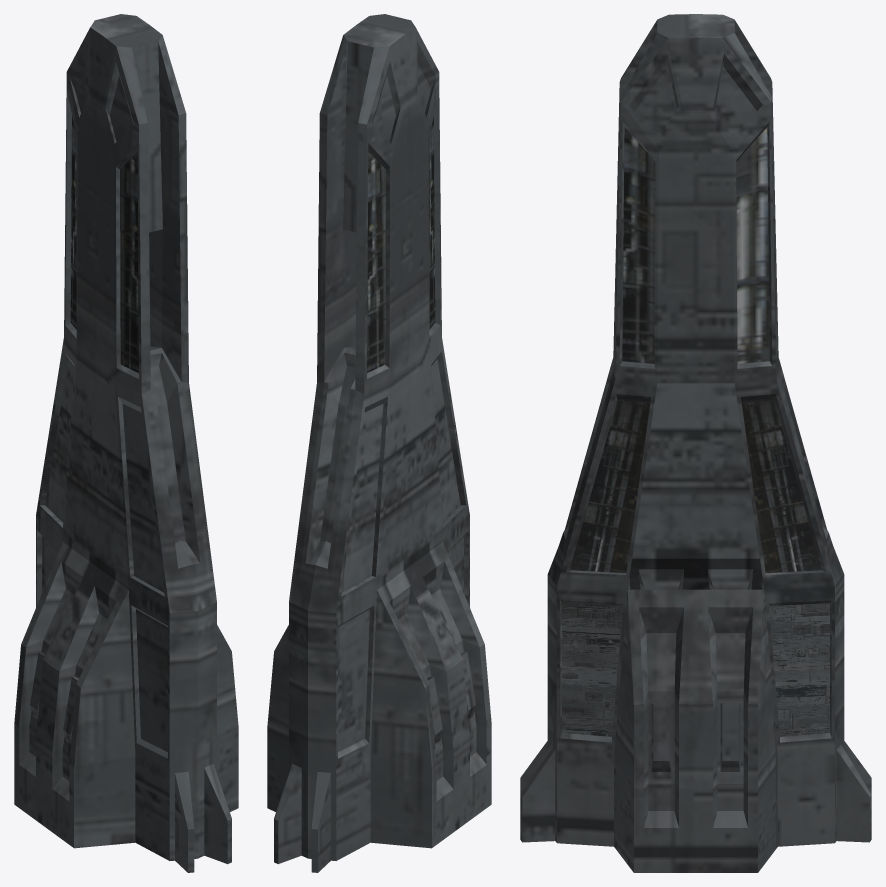
The model's file is Peca1.fbx.
3 views of the same model, side by side, from view 1: azimuth 30°, elevation 25°; view 2: azimuth 150°, elevation 25°; view 3: azimuth 270°, elevation 25° (orthographic). The views are drawn at different scales.
Parts seen in each view (by area): view 1: polySurface1; view 2: polySurface1; view 3: polySurface1.
Part boxes in pixels (box(x1,y1,x2,y2)): polySurface1: box(14, 14, 238, 872); polySurface1: box(267, 14, 491, 872); polySurface1: box(520, 14, 871, 872).
Size of the model in its own units: 3.99 by 18.01 by 7.12.
